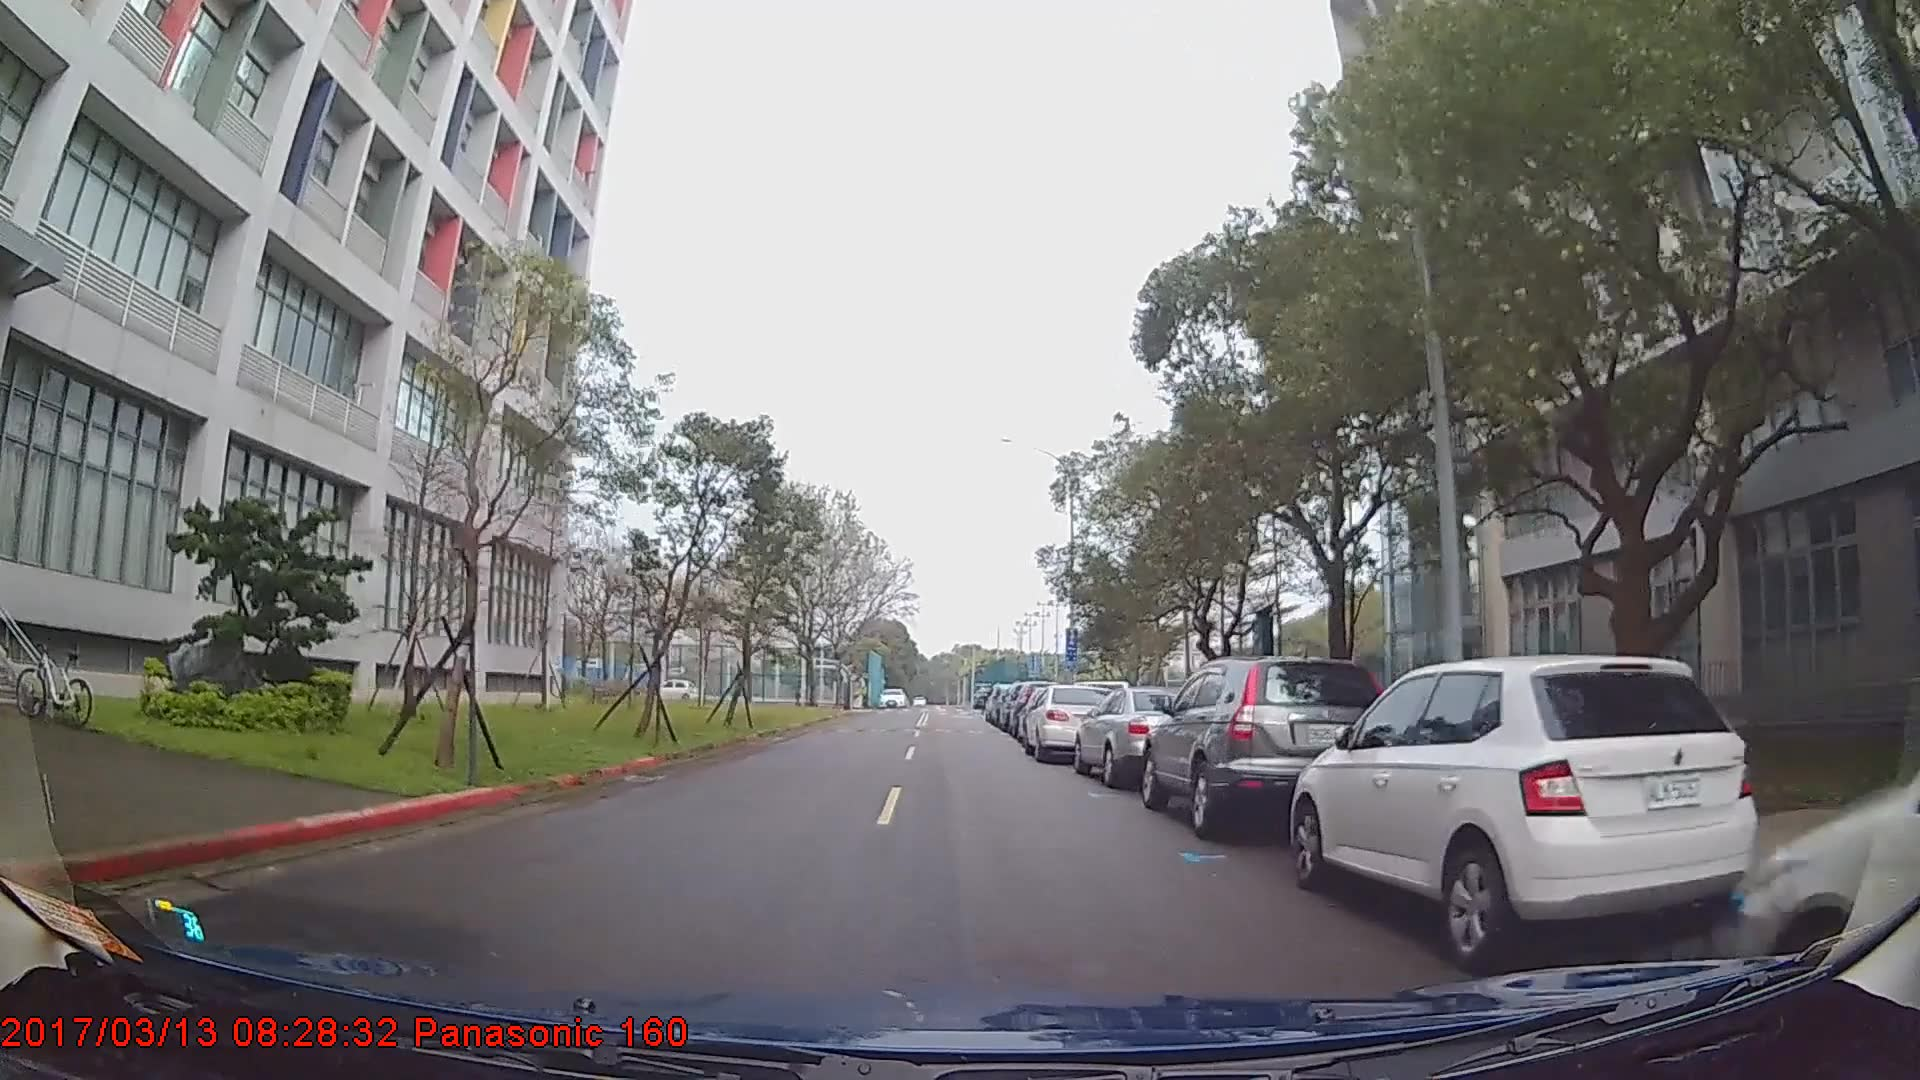vehicle: (1284, 653, 1760, 964), (1137, 655, 1391, 839), (1073, 684, 1195, 789), (1021, 680, 1124, 761), (647, 676, 699, 704)
